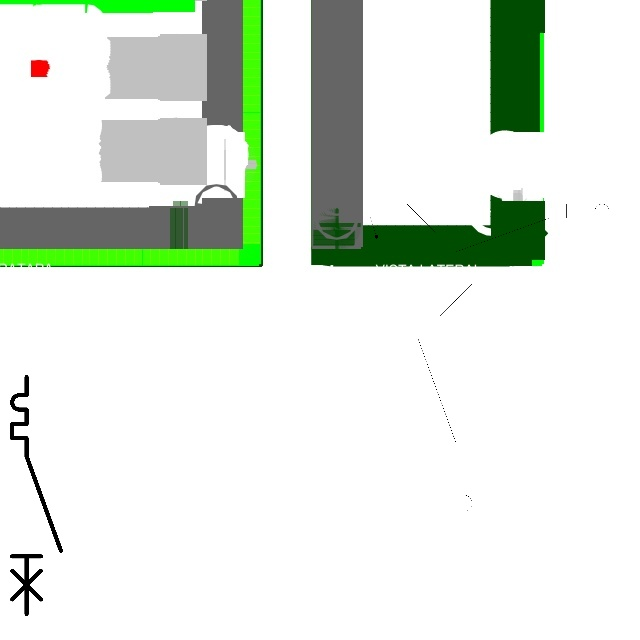interruptor_termomagnetico: (411, 261, 479, 538), (6, 371, 67, 620), (386, 198, 632, 258)
